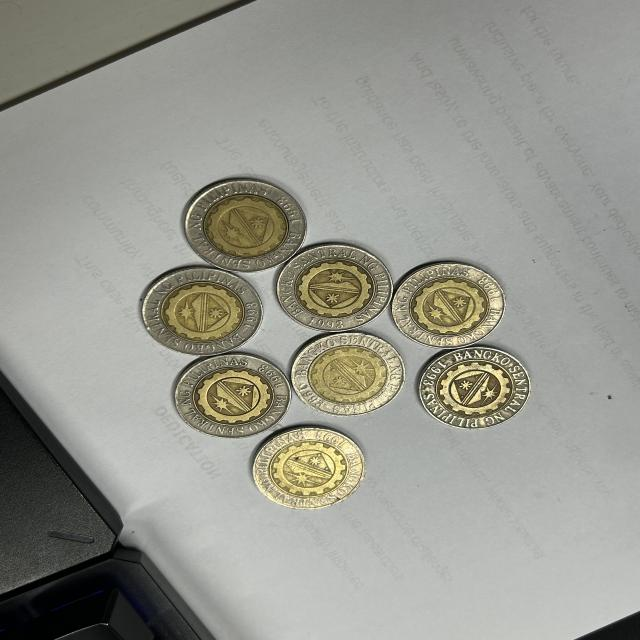10_Old_Back: (143, 266, 258, 349), (283, 243, 395, 325), (189, 185, 298, 269), (164, 356, 292, 426), (296, 341, 405, 416), (398, 262, 497, 344), (429, 348, 520, 428), (257, 436, 358, 506)
